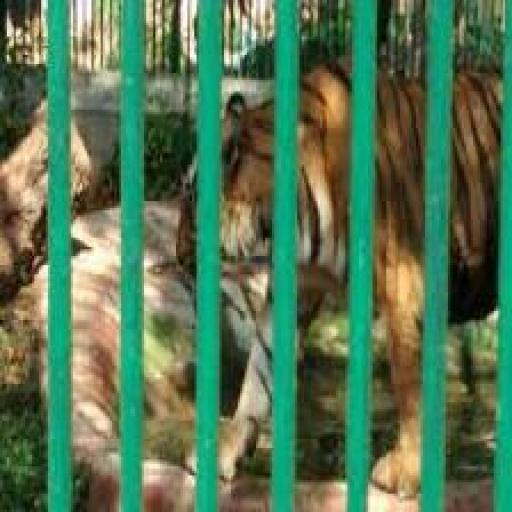Tiger: (174, 16, 510, 512)
